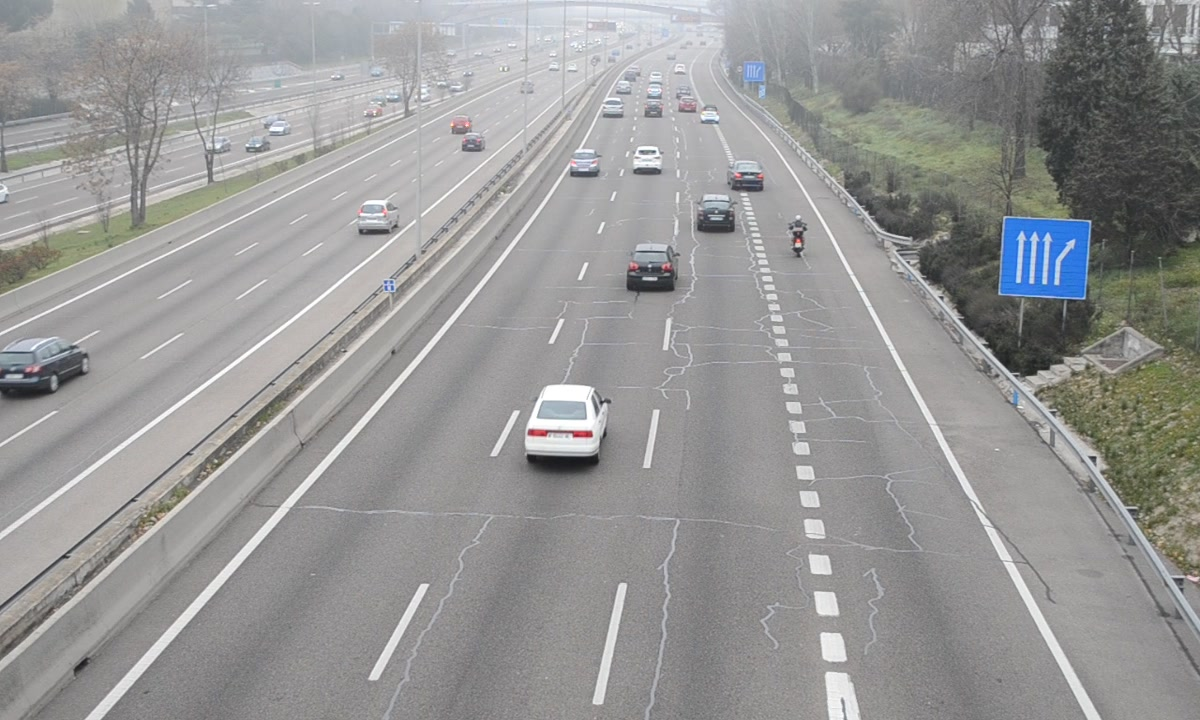car: (523, 384, 611, 458), (627, 245, 679, 294), (695, 195, 736, 234), (729, 161, 765, 193), (631, 146, 664, 176), (568, 149, 600, 175), (601, 95, 626, 117)
motorcycle: (789, 214, 809, 261)
